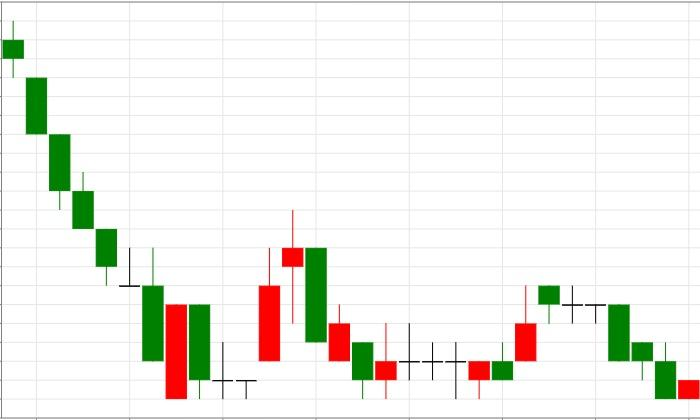evening_star_fall: (212, 209, 326, 399)
